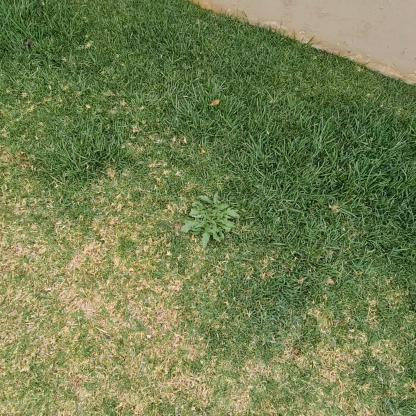Weeds: (178, 191, 240, 250)
